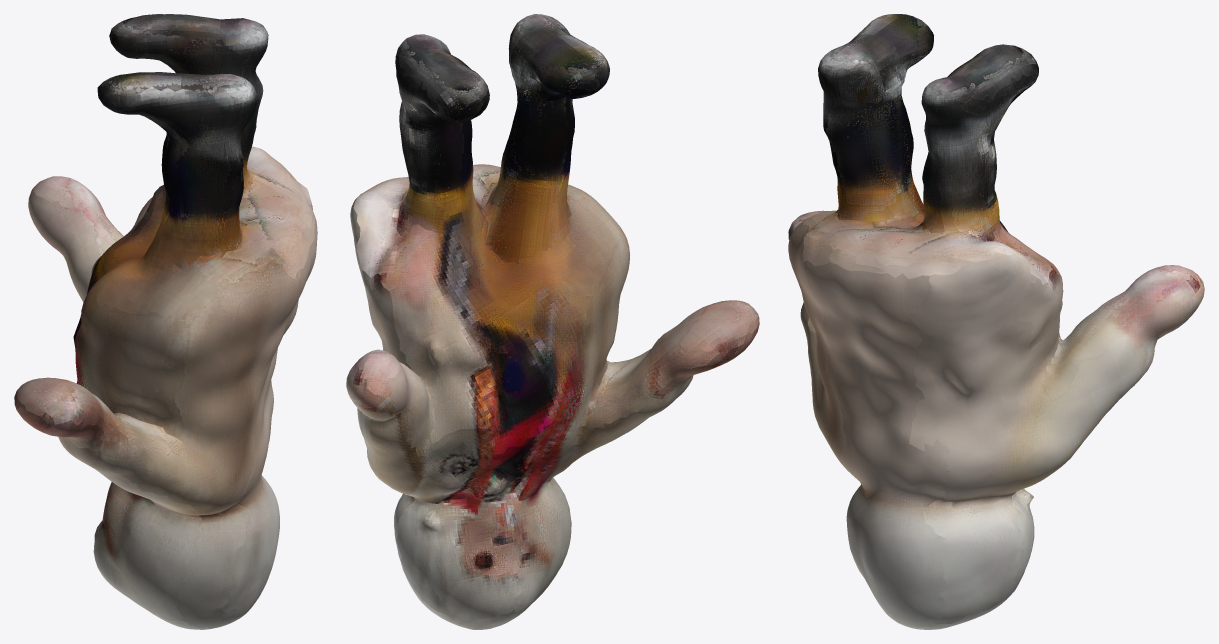
Rendered from 2_figurine.glb.
The picture shows the model from 3 angles, left to right: view 1: azimuth 30°, elevation 25°; view 2: azimuth 150°, elevation 25°; view 3: azimuth 270°, elevation 25°; orthographic projection. The views are drawn at different scales.
Parts seen in each view (by area): view 1: 2_figurine.obj; view 2: 2_figurine.obj; view 3: 2_figurine.obj.
Boxes of the visible parts, x1,y1,x2,y2 form: 2_figurine.obj: [14, 14, 317, 629]; 2_figurine.obj: [346, 14, 759, 629]; 2_figurine.obj: [788, 14, 1204, 629].
Size of the model in its own units: 0.1949 by 0.3254 by 0.2165.
Materials: 1 (1 with a texture image).
